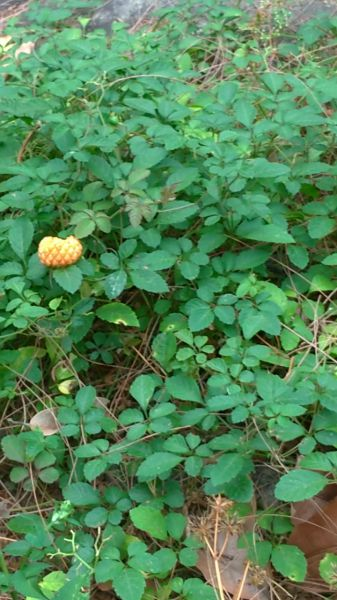eggs: (34, 230, 87, 273)
